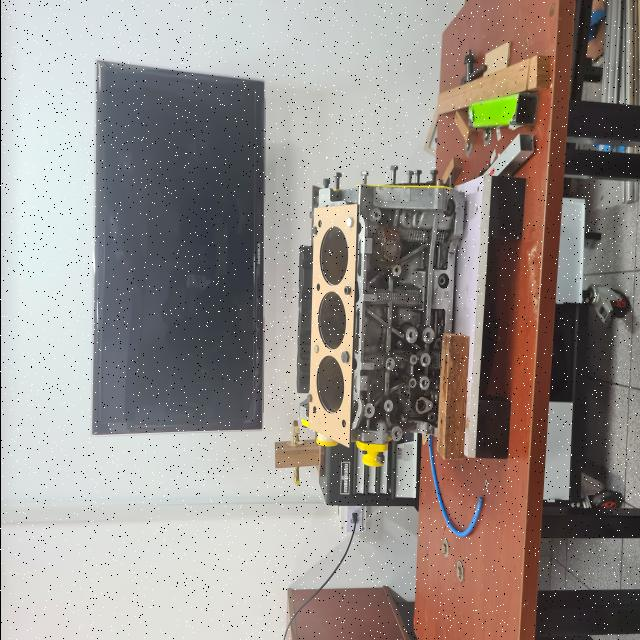vista1: (308, 203, 356, 447)
